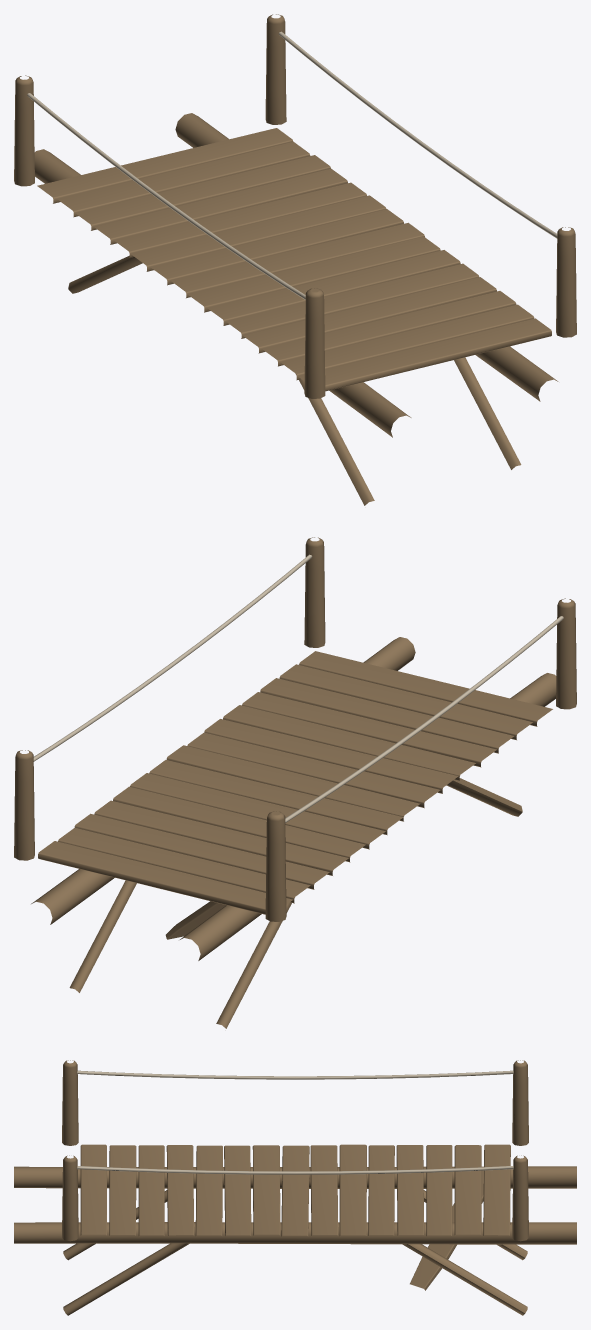
Rendered from bridge.glb.
The picture shows the model from 3 angles, top to bottom: view 1: azimuth 30°, elevation 25°; view 2: azimuth 150°, elevation 25°; view 3: azimuth 270°, elevation 25°; orthographic projection. The views are drawn at different scales.
Parts seen in each view (by area): view 1: plank1, plank2, plank3, frame, rope; view 2: plank3, plank2, plank1, frame, rope, broken; view 3: frame, plank2, plank1, plank3, rope, broken.
Boxes of the visible parts, x1,y1,x2,y2 form: plank1: (37, 128, 366, 257); plank2: (130, 195, 460, 325); plank3: (225, 263, 551, 391); frame: (14, 14, 576, 505); rope: (27, 31, 557, 299); plank3: (223, 651, 552, 780); plank2: (130, 719, 458, 849); plank1: (38, 786, 365, 914); frame: (14, 537, 576, 1028); rope: (33, 554, 563, 822); broken: (165, 901, 225, 939); frame: (14, 1060, 576, 1315); plank2: (224, 1144, 366, 1236); plank1: (368, 1144, 510, 1235); plank3: (80, 1144, 222, 1235); rope: (77, 1070, 513, 1174); broken: (410, 1170, 483, 1290).
Bounding box in the file's own units: 2.58 × 2.09 × 6.
